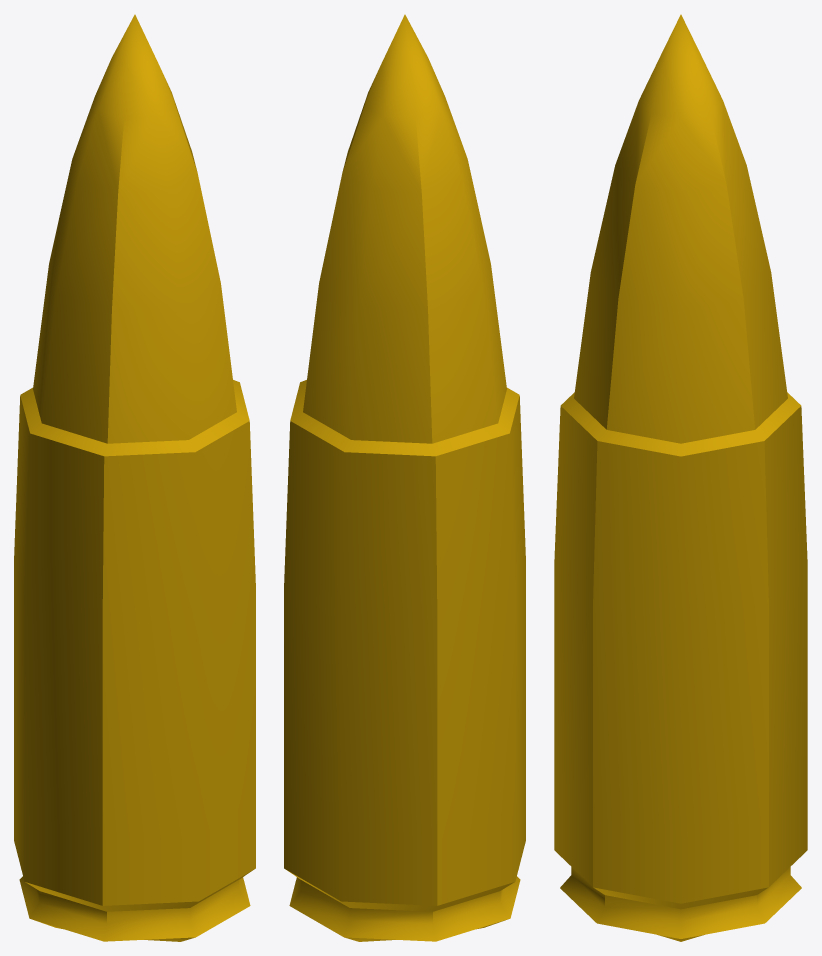
The model's file is SniperPickup.fbx.
3 views of the same model, side by side, from view 1: azimuth 30°, elevation 25°; view 2: azimuth 150°, elevation 25°; view 3: azimuth 270°, elevation 25° (orthographic).
Parts seen in each view (by area): view 1: Pickup_Bullets1; view 2: Pickup_Bullets1; view 3: Pickup_Bullets1.
Part boxes in pixels (left/top/right/bottom): Pickup_Bullets1: left=14, top=14, right=255, bottom=941; Pickup_Bullets1: left=284, top=14, right=525, bottom=941; Pickup_Bullets1: left=554, top=14, right=807, bottom=941.
Bounding box in the file's own units: 27.61 × 108 × 27.61.
